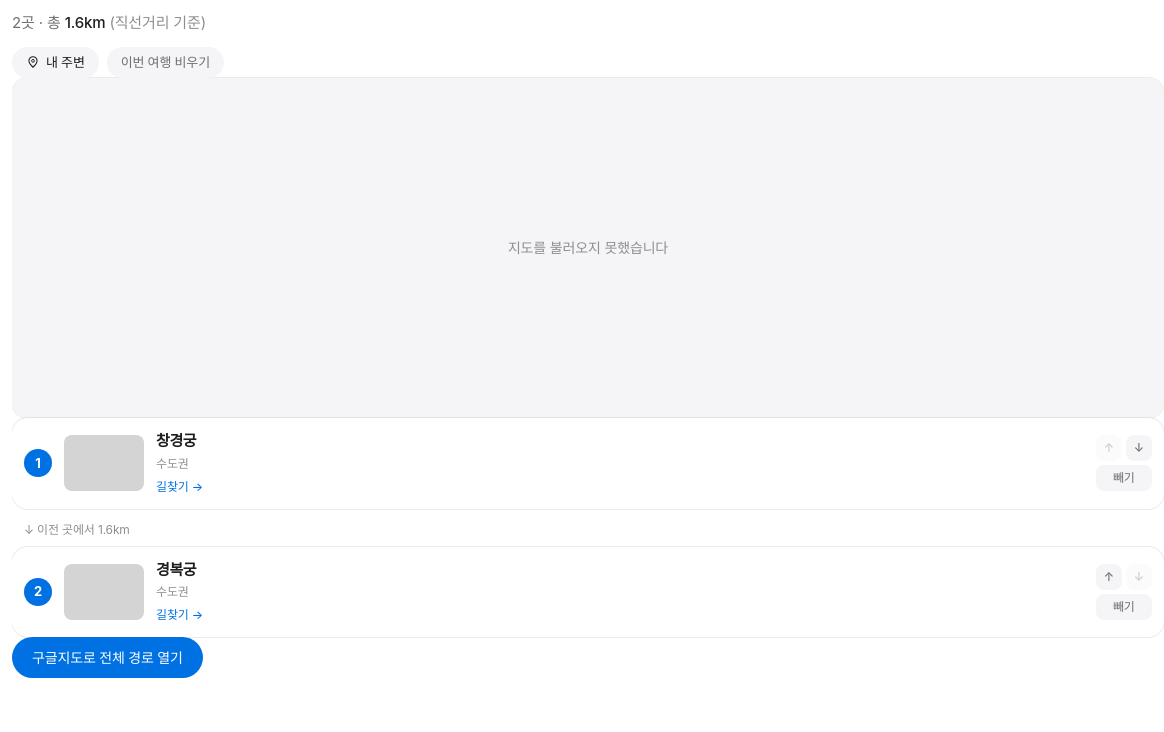
it: CoursePlanner › 빼기를 누르면 이번 여행에서 사라진다
The image size is (1164, 732).
Step 1. Click the button with aria-label "창경궁 코스에서 빼기" → (1124, 478), box [1096, 465, 1152, 491]
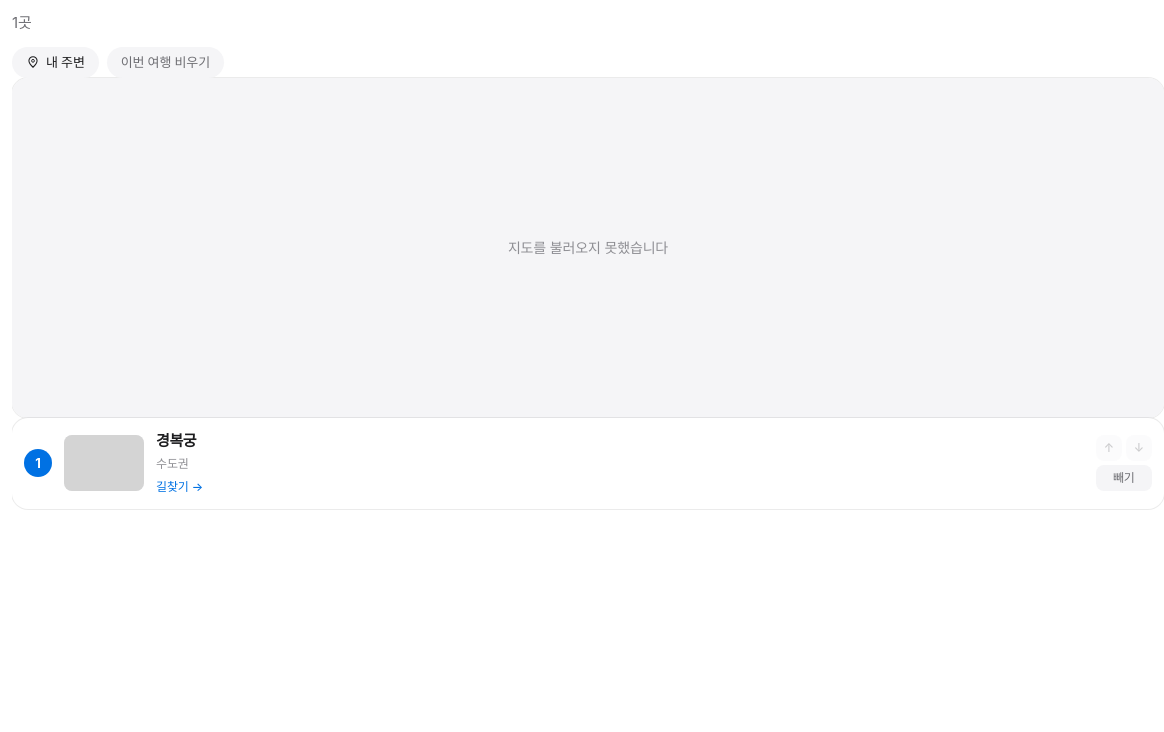
Now the link "창경궁" is gone
